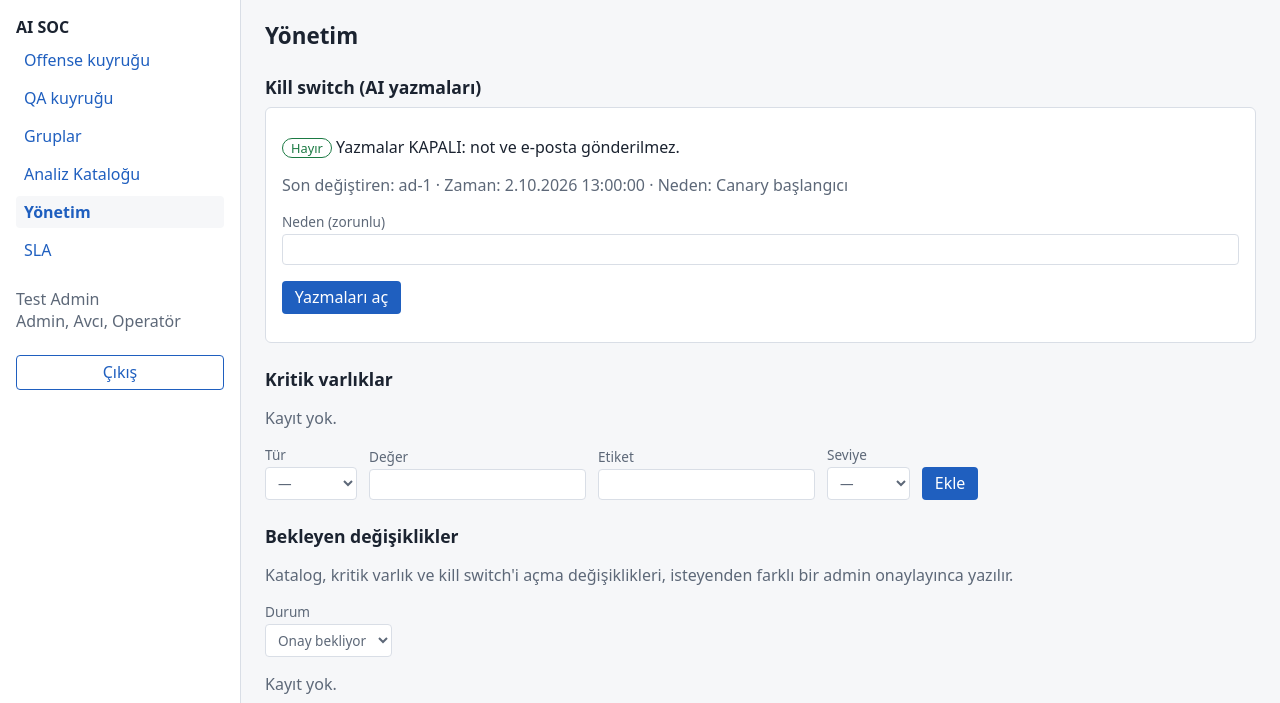
Test: administration (criterion 8) › asks for a confirmation before it opens the writes
Expected: the text "Hayır Yazmalar KAPALI: not ve e-posta gönderilmez." is shown, [282,136,680,158]
no reason: nothing opens
Click the button "Yazmaları aç".
click(342, 297)  # box [282,281,401,314]
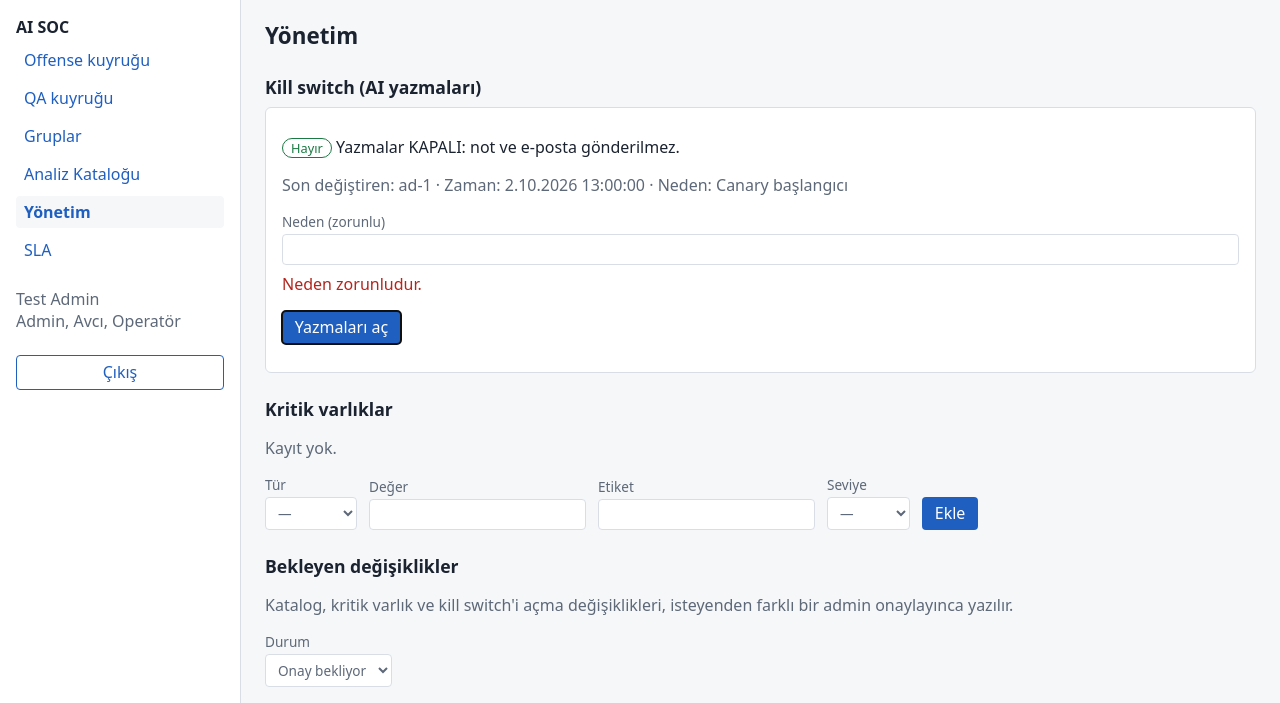
Now the text "Neden zorunludur." is shown, box [282,273,422,295]
Type "Canary" into the field labelled "Neden (zorunlu)".
click(760, 250); type("Canary")  # box [282,234,1239,265]
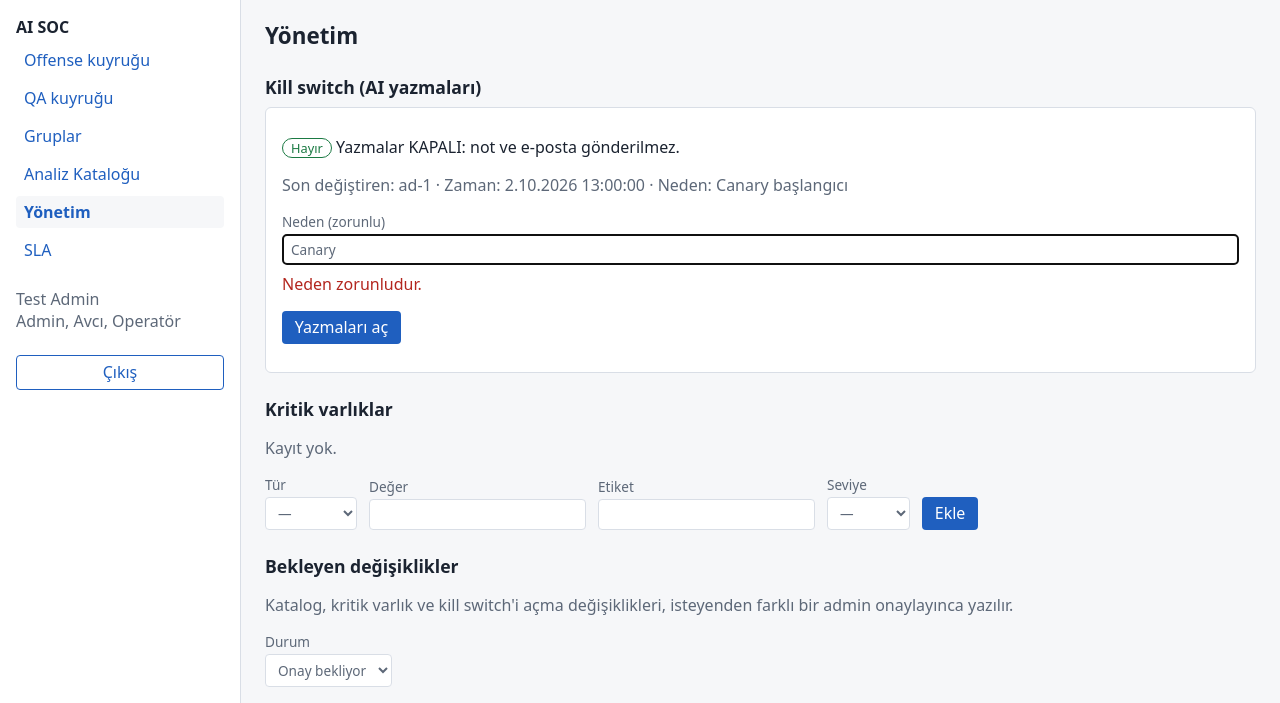
Click the button "Yazmaları aç".
click(342, 327)  # box [282,311,401,344]
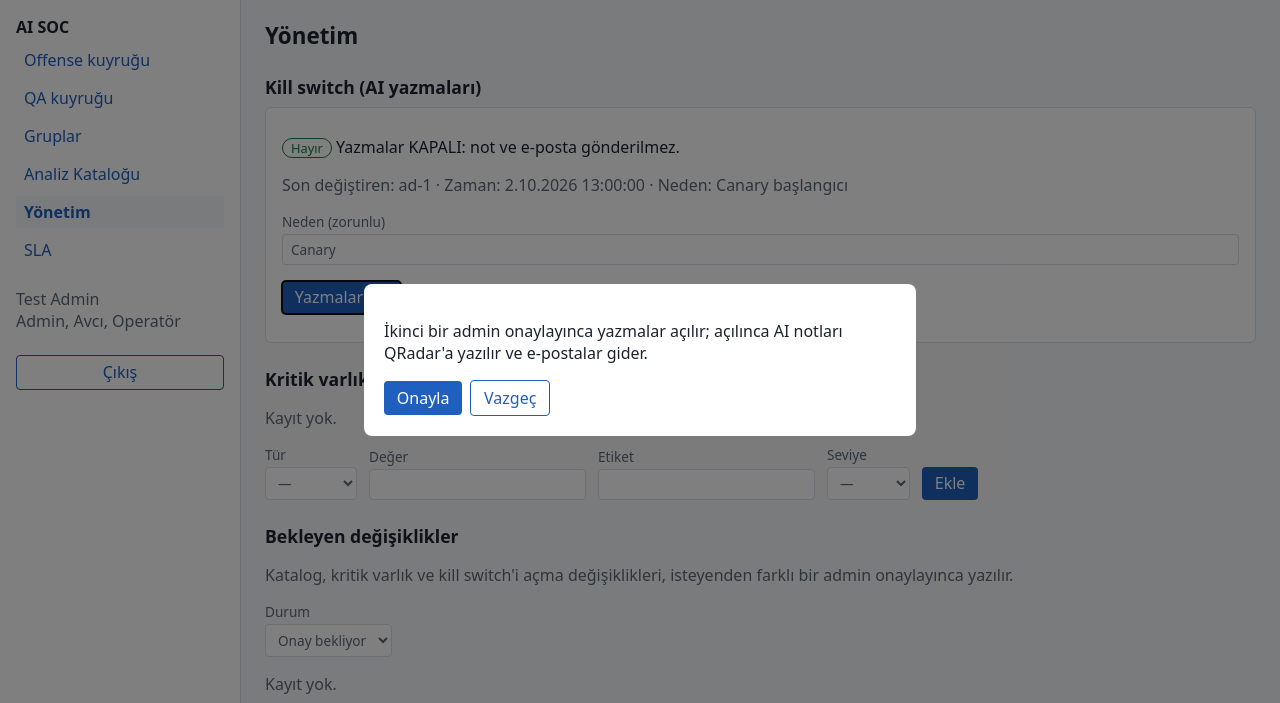
Now the text "İkinci bir admin onaylayınca yazmalar açılır" is shown, box [384,320,843,364]
Click the button "Onayla".
click(423, 398)  # box [384,381,462,415]
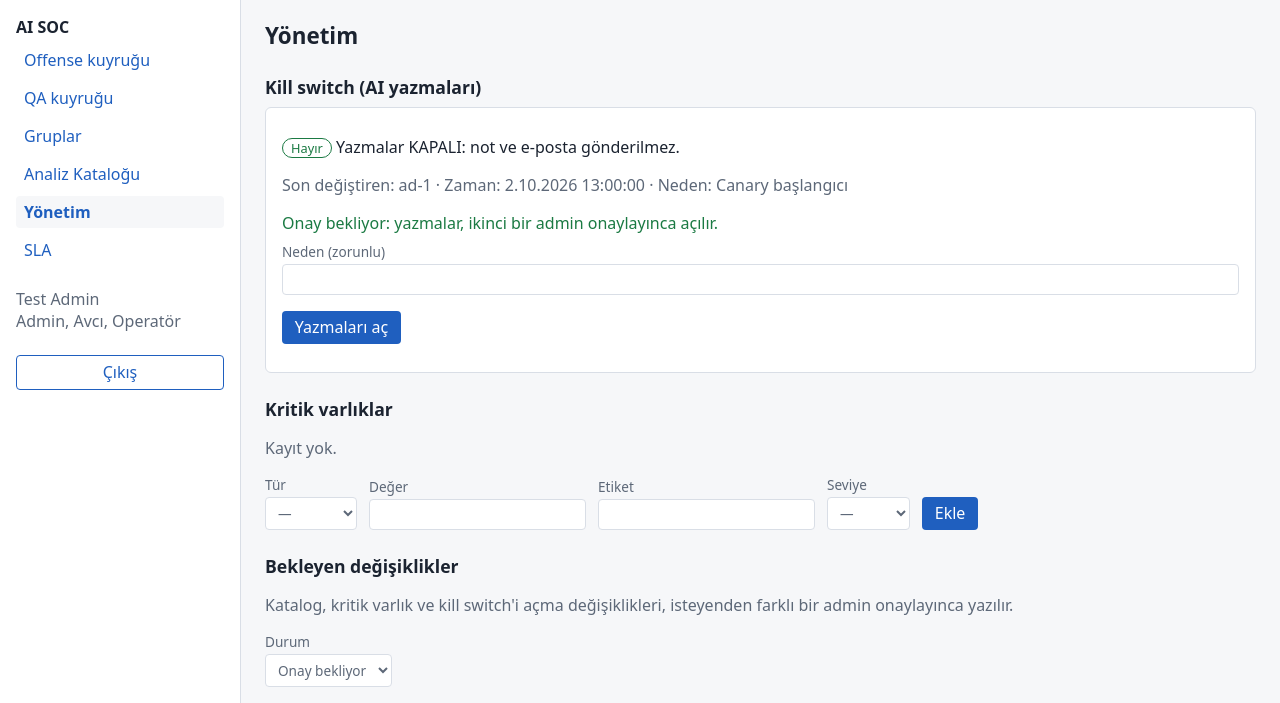
Expected: the text "Hayır Yazmalar KAPALI: not ve e-posta gönderilmez." is shown, [282,136,680,158]
Now the text "Onay bekliyor: yazmalar, ikinci bir admin onaylayınca açılır." is shown, box [282,212,718,234]
